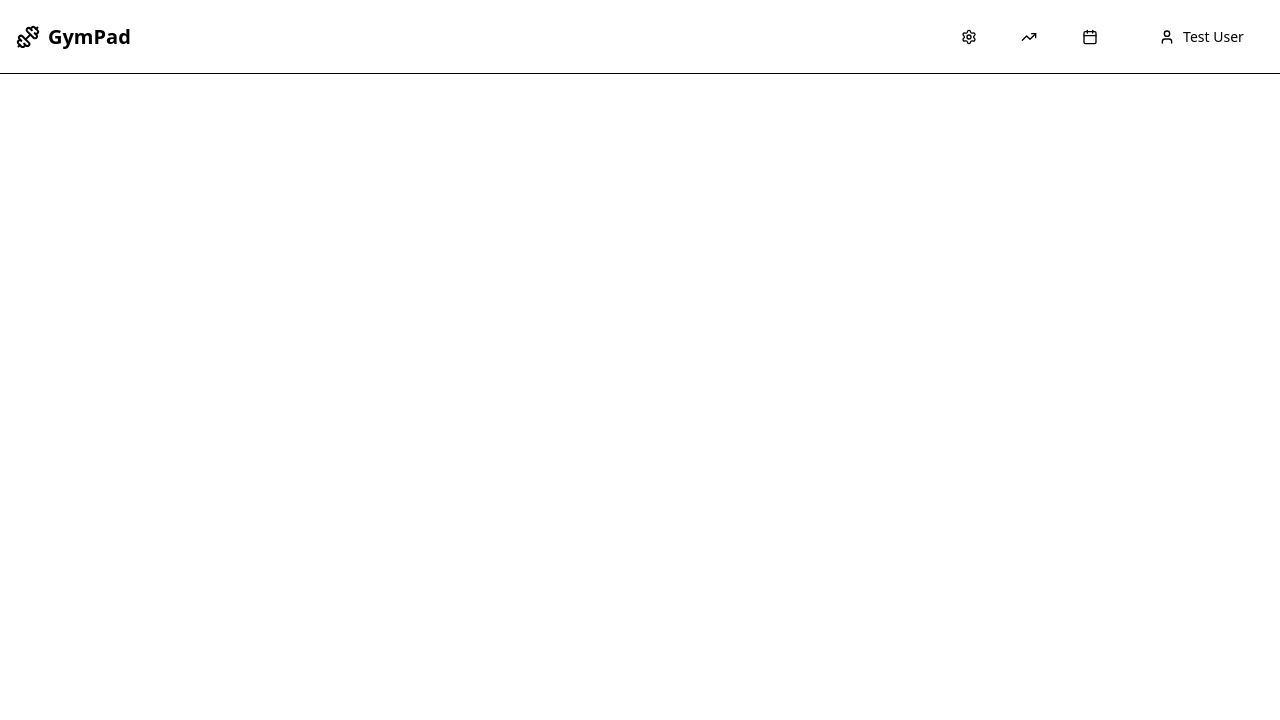
Test case: Header Component › Click Outside Behavior › closes user menu when clicking outside
This screenshot has width=1280, height=720.
Click the button titled "Test User". click: (1201, 37)
box: [1139,16,1264,57]
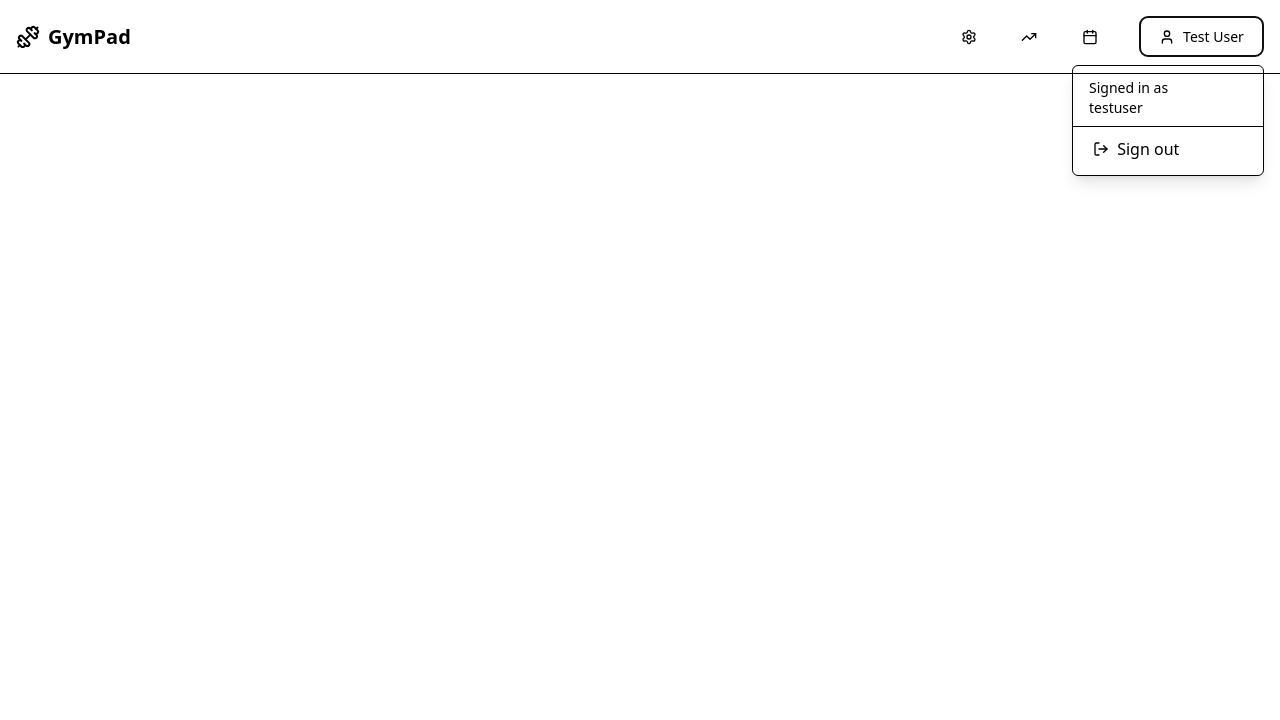
expect the text "Signed in as" is shown: met, box [1089,78,1168,97]
Click outside the menu
Click the element that starts with "GymPad". click: (640, 360)
box: [0,0,1279,719]
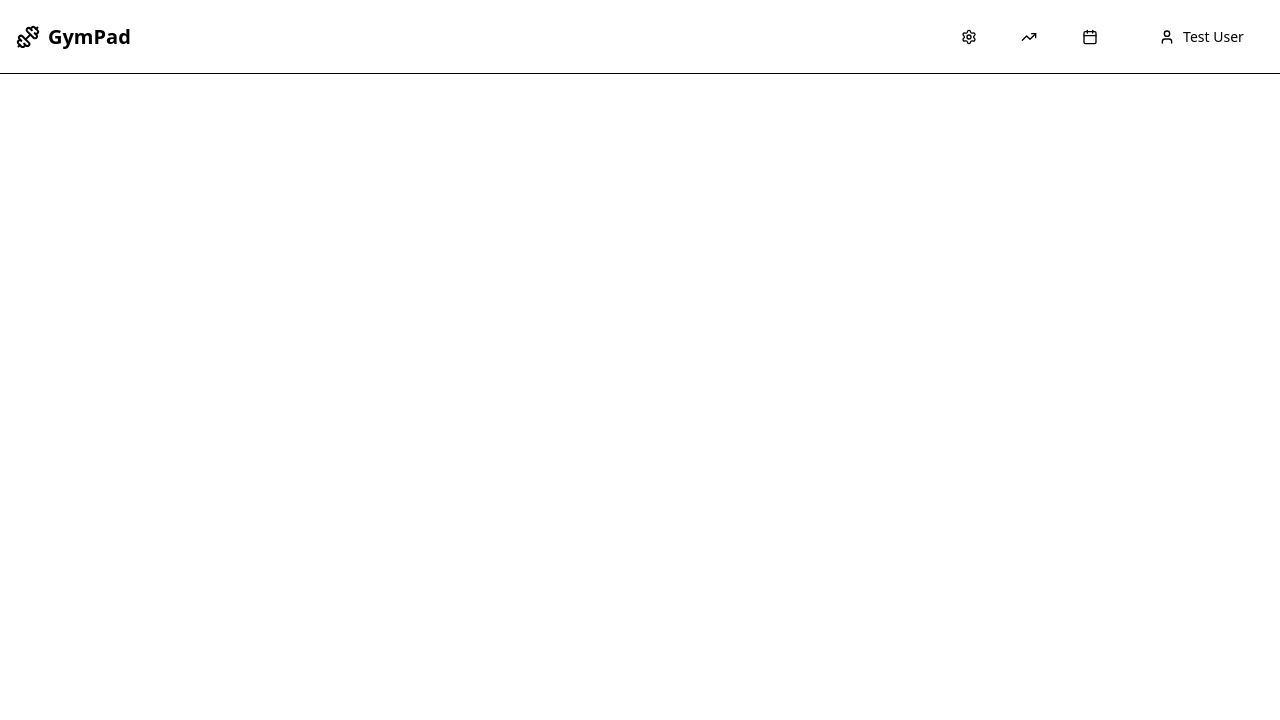
expect the text "Signed in as" is gone: met
